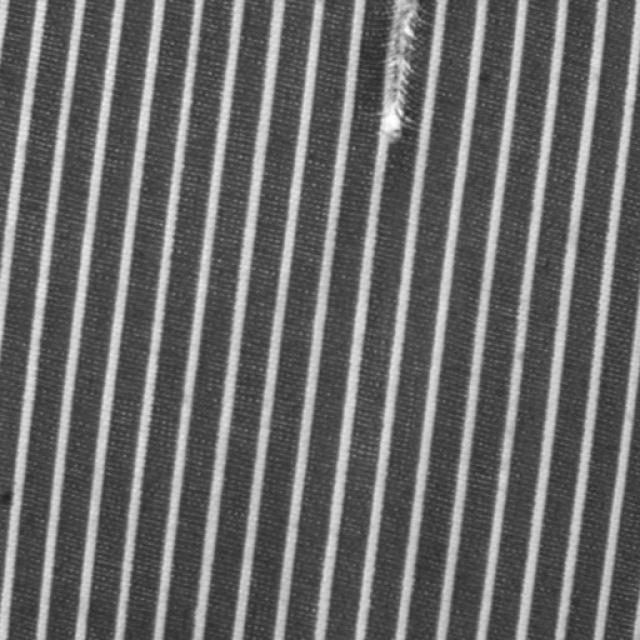Hole-Defect: (379, 0, 421, 141)
